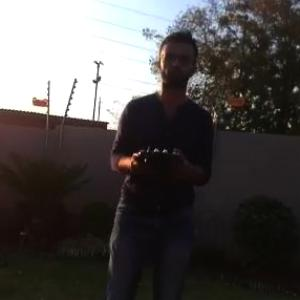follow: (94, 24, 218, 299)
